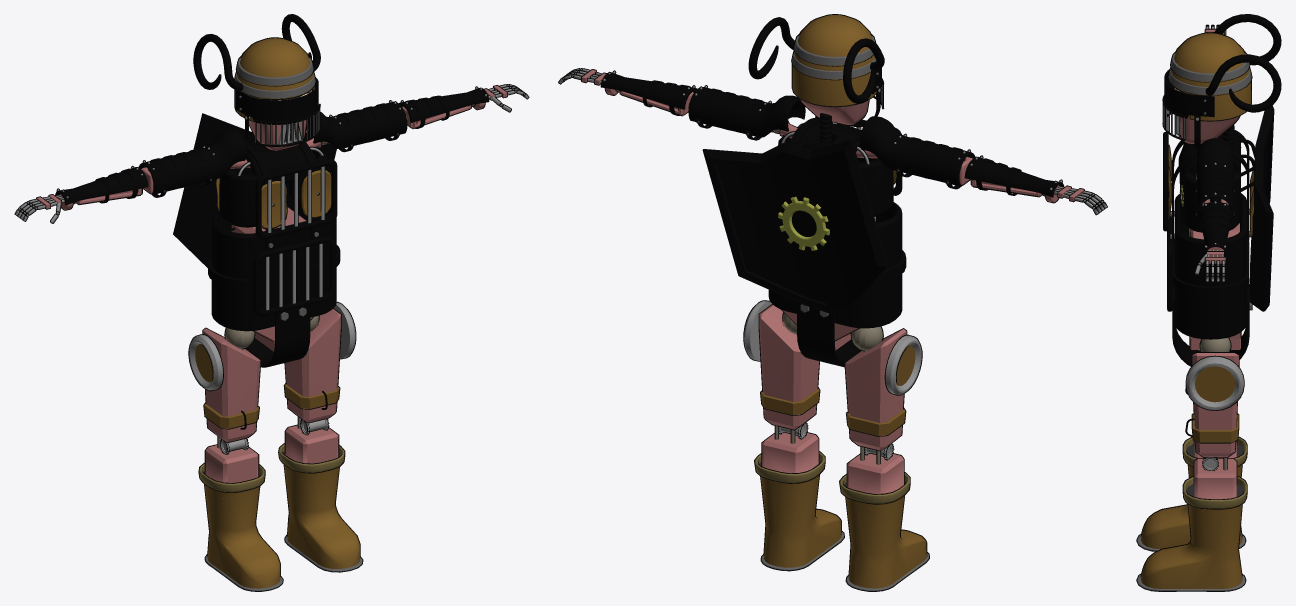
File: Robot6M.fbx
3 views of the same model, side by side, from view 1: azimuth 30°, elevation 25°; view 2: azimuth 150°, elevation 25°; view 3: azimuth 270°, elevation 25° (orthographic). The views are drawn at different scales.
Parts seen in each view (by area): view 1: Cylinder.001; view 2: Cylinder.001; view 3: Cylinder.001.
Part boxes in pixels (x1,y1,x2,y2): Cylinder.001: (14, 14, 529, 591); Cylinder.001: (558, 14, 1107, 591); Cylinder.001: (1136, 14, 1281, 591).
Size of the model in its own units: 428 by 416 by 104.
